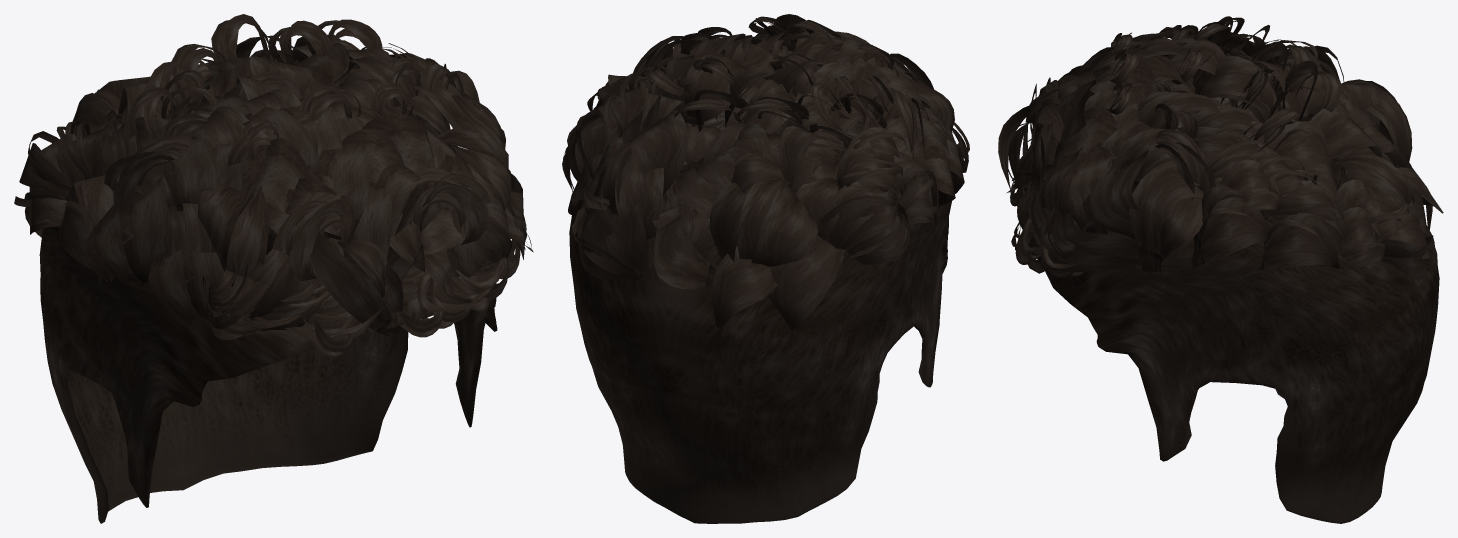
File: Rectangle_Curly_Fringe.glb
3 renders of one model, left to right at view 1: azimuth 30°, elevation 25°; view 2: azimuth 150°, elevation 25°; view 3: azimuth 270°, elevation 25°, orthographic. The views are drawn at different scales.
Parts seen in each view (by area): view 1: FRINGE.003, SCALP_NEW.002; view 2: FRINGE.003, SCALP_NEW.002; view 3: FRINGE.003, SCALP_NEW.002.
Part boxes in pixels (left/top/right/bottom): FRINGE.003: left=14, top=14, right=533, bottom=356; SCALP_NEW.002: left=39, top=118, right=497, bottom=523; FRINGE.003: left=562, top=14, right=969, bottom=330; SCALP_NEW.002: left=569, top=98, right=951, bottom=523; FRINGE.003: left=998, top=16, right=1443, bottom=286; SCALP_NEW.002: left=1037, top=97, right=1439, bottom=523.
Size of the model in its own units: 0.2097 by 0.2401 by 0.2188.
Materials: 2 (2 with a texture image).
